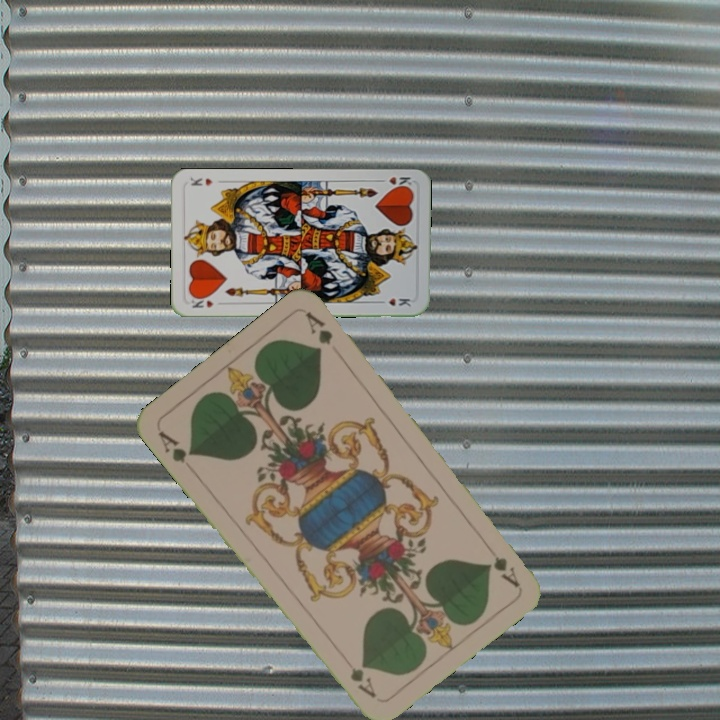GA: (153, 426, 197, 466), (489, 552, 522, 590)
HK: (374, 173, 414, 192), (187, 292, 216, 311)
